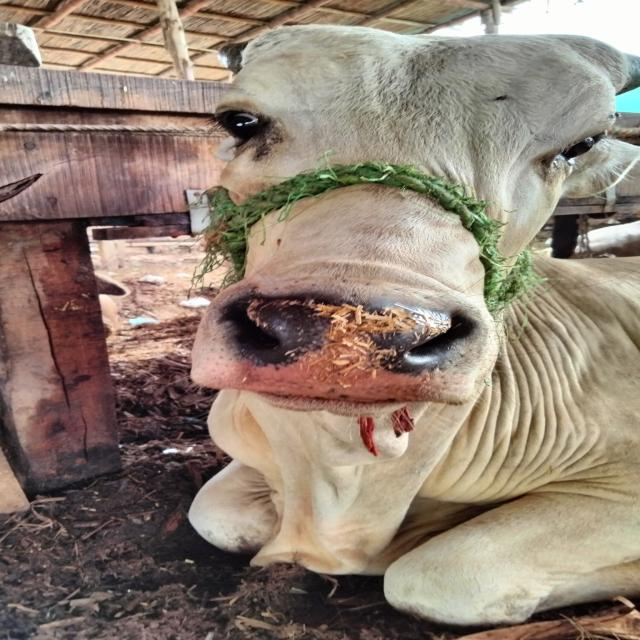muzzles: (200, 279, 488, 405)
